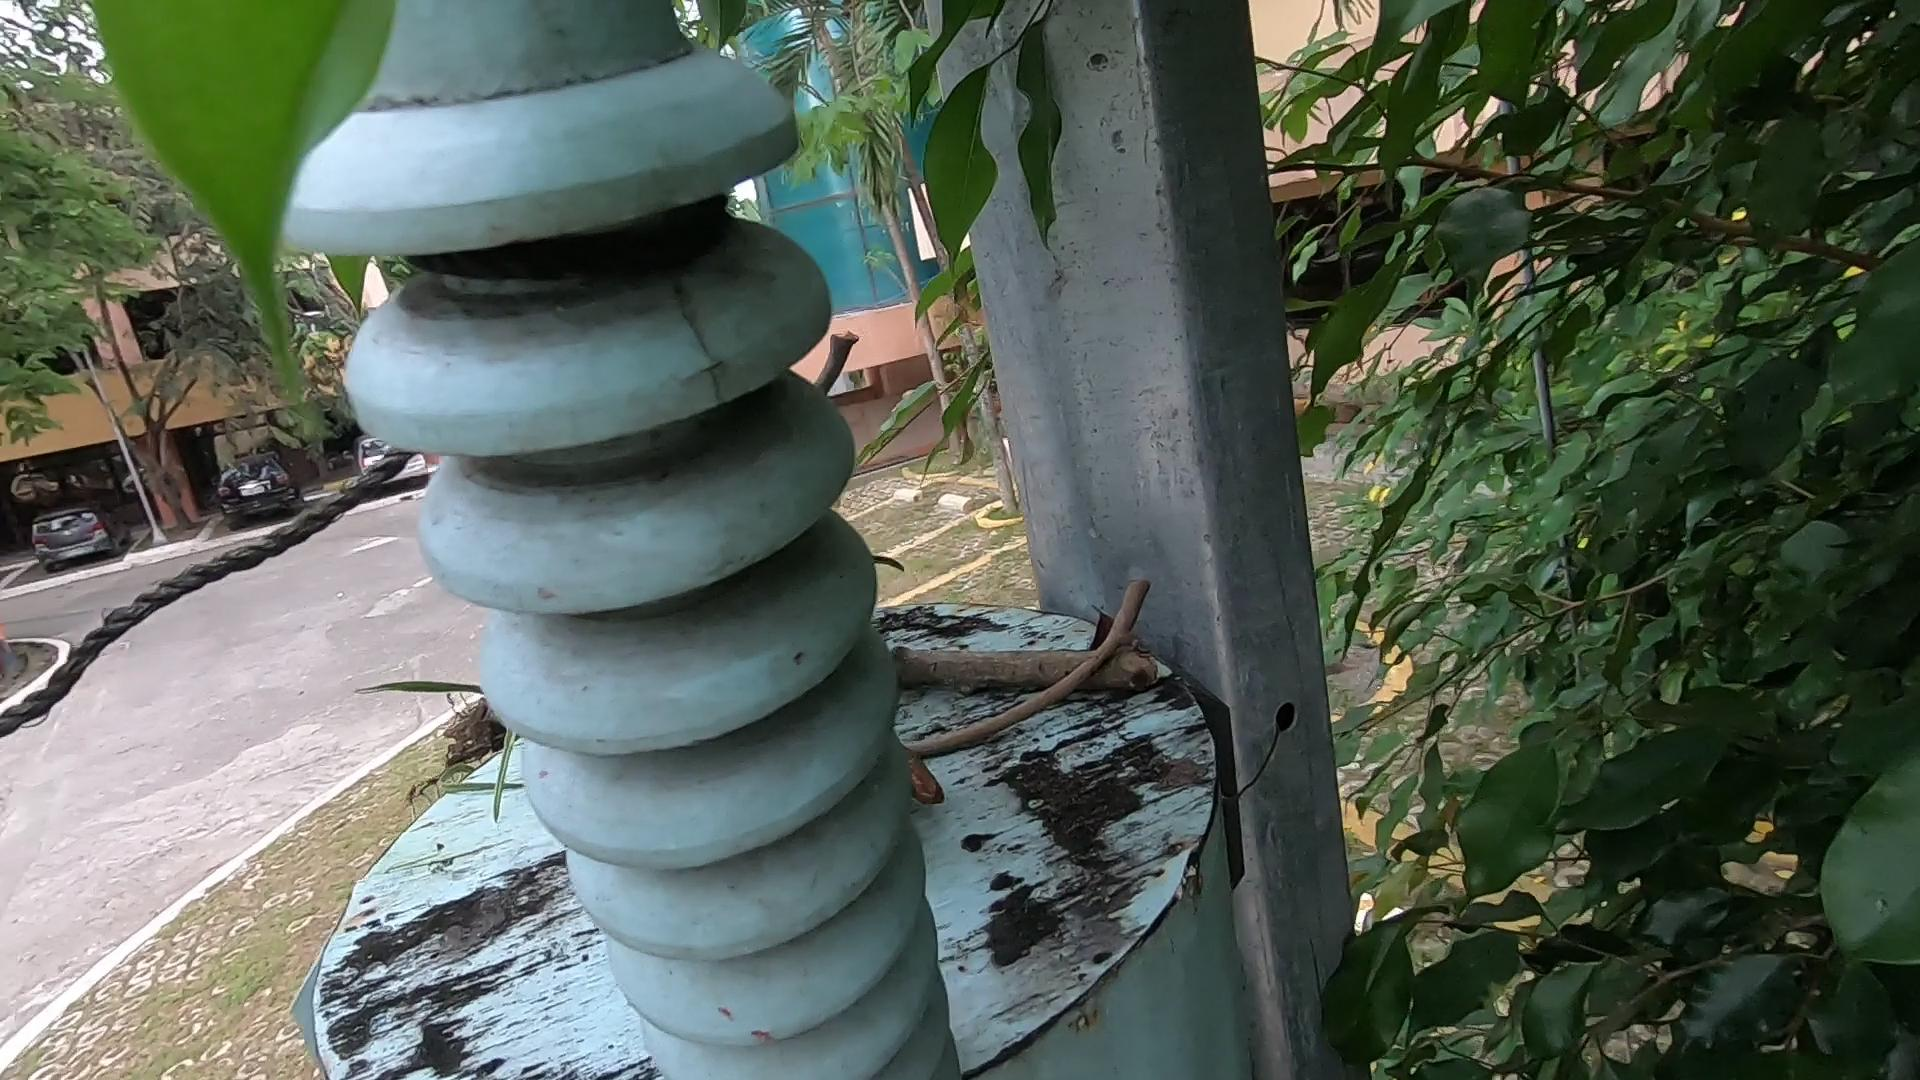branch with leaves: (386, 549, 1224, 727)
tree branch: (913, 549, 1212, 818)
